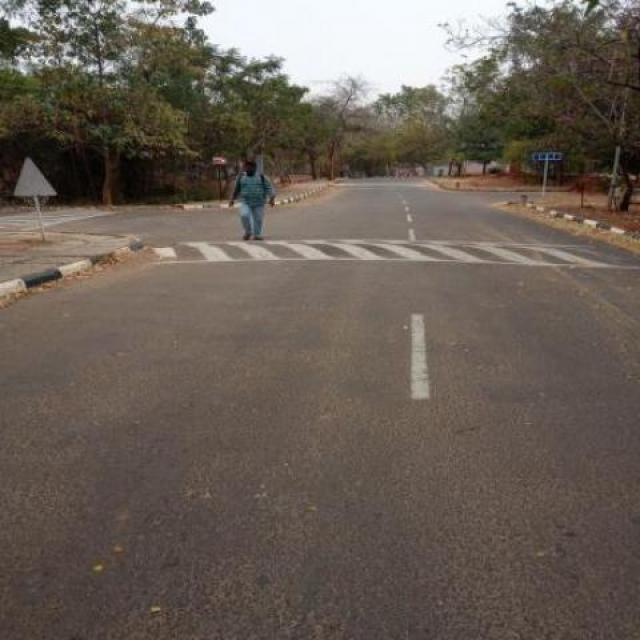Speed Bump: (138, 237, 638, 268)
